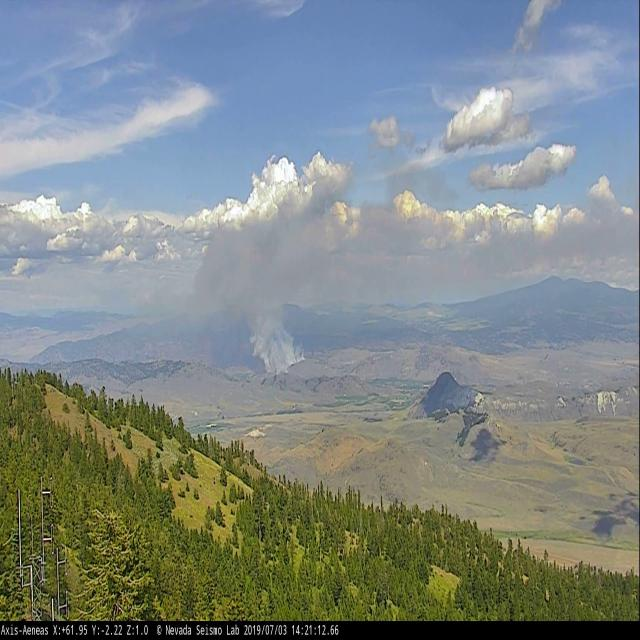smoke: (244, 285, 308, 391)
